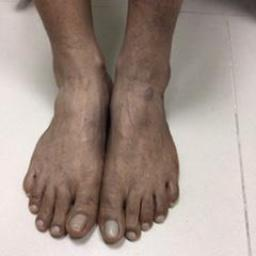Dorsal View -Both Feet-: (15, 31, 195, 245)
